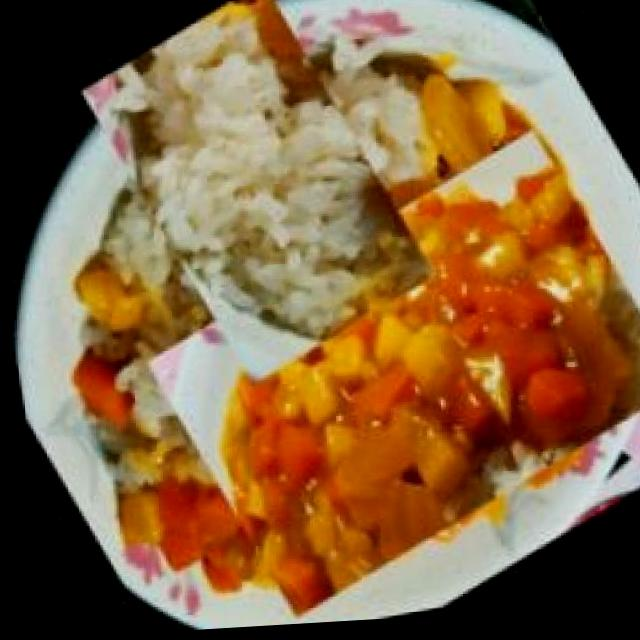curry: (116, 115, 640, 635)
rice: (50, 0, 462, 396)
